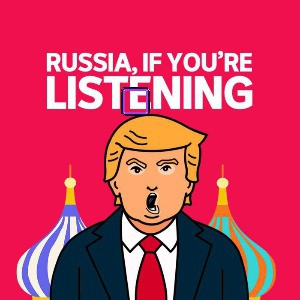square: (122, 88, 150, 116)
